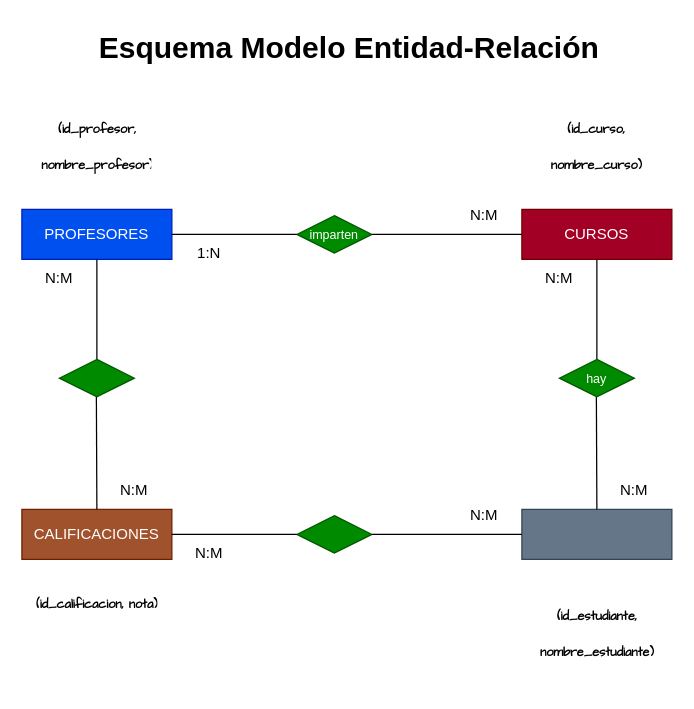
Some shapes in this 694 by 709 pixel diagram are drawn without their labels. The box of each missing label's shape, as (x1, y1, x2, y2) in pixels:
ESTUDIANTES: (521, 508, 672, 559)
obtienen: (296, 514, 372, 553)
ponen: (58, 358, 134, 397)
